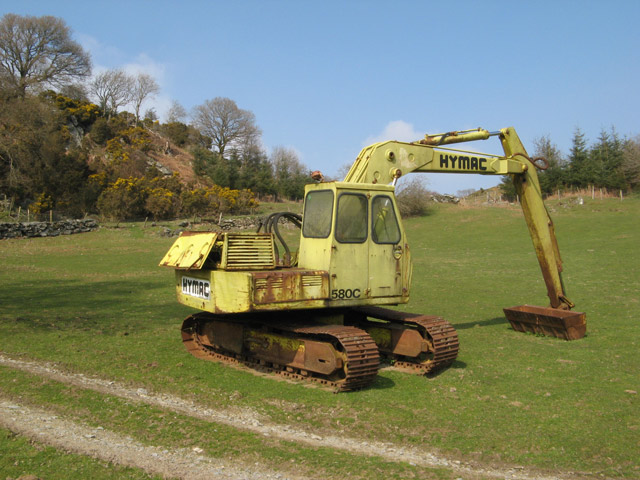excavator: (171, 123, 590, 399)
